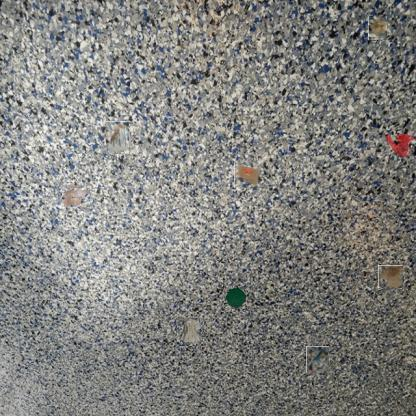dirty: (103, 124, 132, 152), (176, 318, 204, 346), (234, 162, 261, 188), (305, 347, 330, 372), (378, 264, 402, 289), (223, 285, 247, 309), (64, 185, 88, 209)
liquid: (384, 132, 416, 158), (368, 18, 388, 39)
